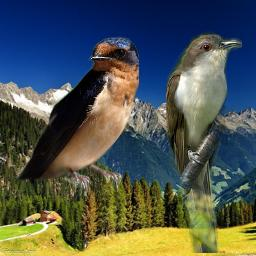Cuckoo: (166, 27, 242, 253)
Swallow: (16, 36, 139, 196)
